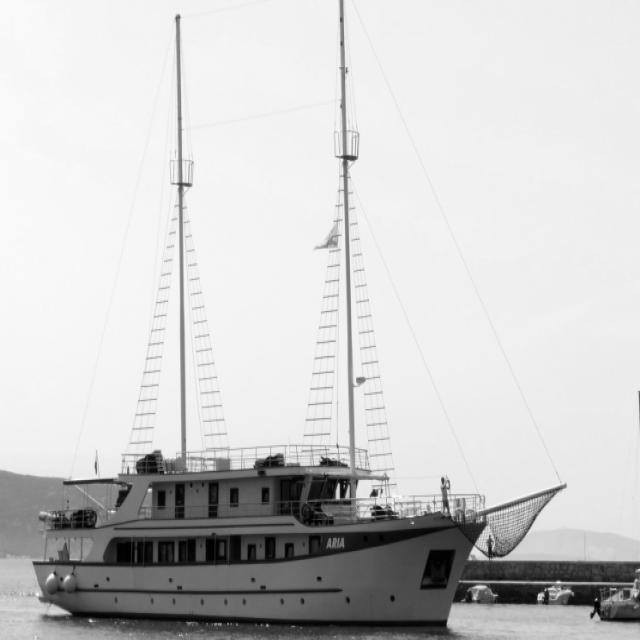cruises: (30, 434, 500, 639)
